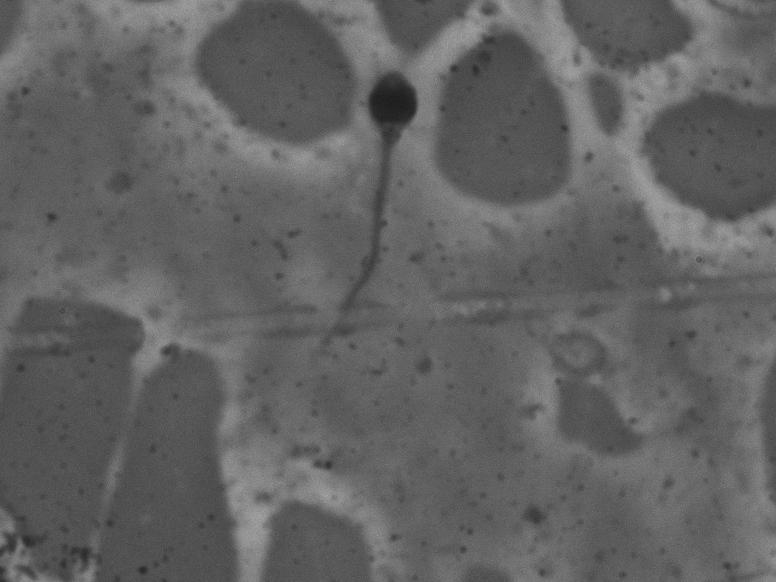Abnormal: (289, 57, 432, 375)
